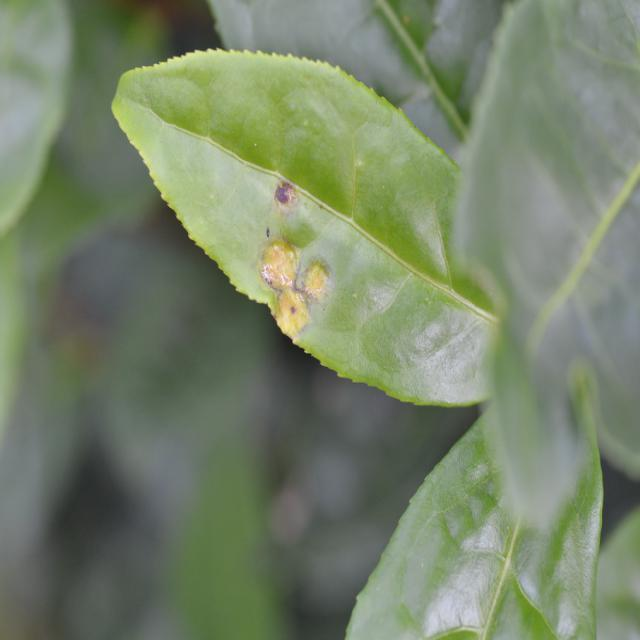Tea cake: (260, 226, 336, 343), (268, 165, 316, 220)
